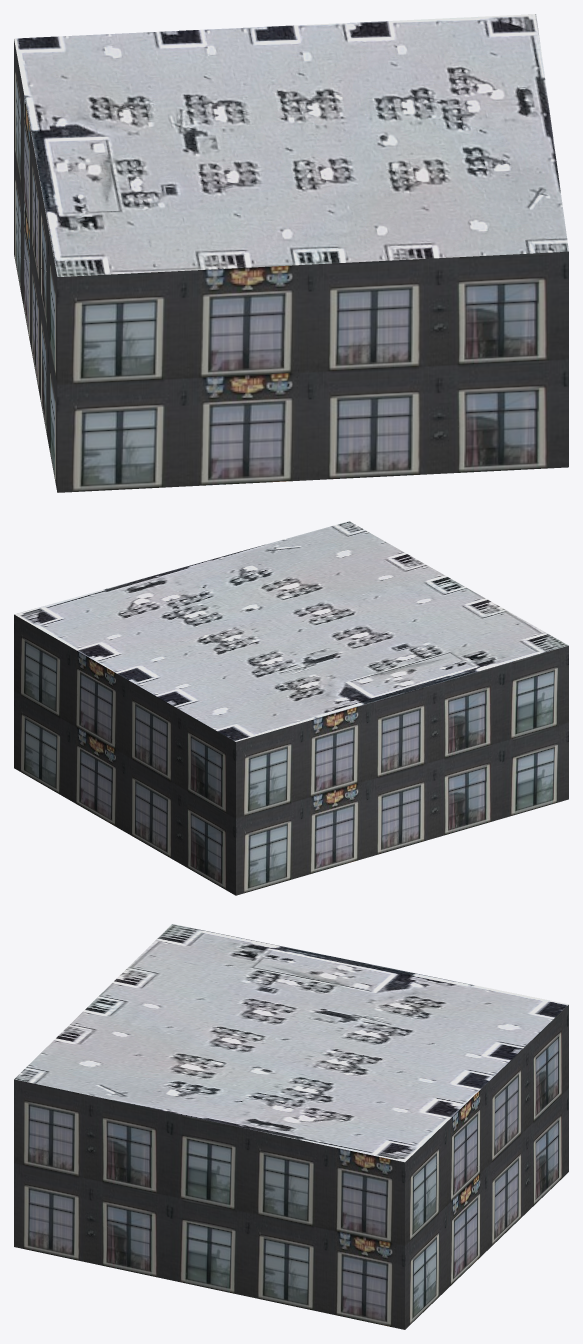
File: ResTex__5301.fbx
The picture shows the model from 3 angles, top to bottom: view 1: azimuth 30°, elevation 25°; view 2: azimuth 150°, elevation 25°; view 3: azimuth 270°, elevation 25°; orthographic projection. The views are drawn at different scales.
Parts seen in each view (by area): view 1: CityEngineMaterial_m, CityEngineMaterial_22_m; view 2: CityEngineMaterial_22_m, CityEngineMaterial_m; view 3: CityEngineMaterial_22_m, CityEngineMaterial_m.
Boxes of the visible parts, box(x1,y1,x2,y2) form: CityEngineMaterial_m: box(14, 14, 568, 276); CityEngineMaterial_22_m: box(14, 39, 568, 492); CityEngineMaterial_22_m: box(14, 614, 568, 895); CityEngineMaterial_m: box(14, 521, 568, 741); CityEngineMaterial_22_m: box(14, 1005, 568, 1329); CityEngineMaterial_m: box(14, 924, 568, 1162).
Size of the model in its own units: 18.3 by 6 by 18.01.
Materials: 2 (2 with a texture image).
